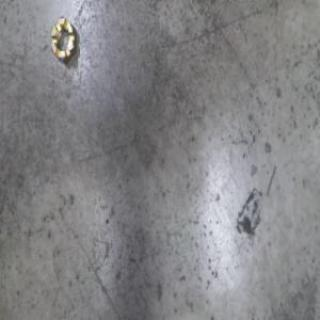Nuttrack_idkeyframe: (48, 15, 76, 66)
